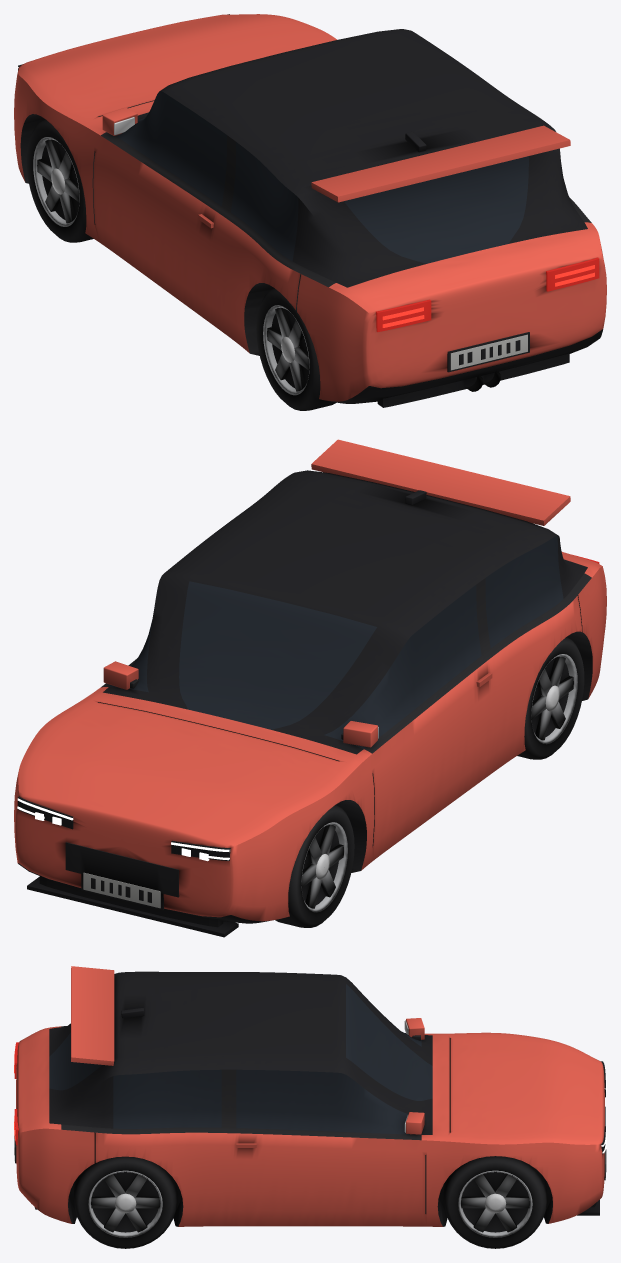
Rendered from kestrel.glb.
3 renders of one model, top to bottom at view 1: azimuth 30°, elevation 25°; view 2: azimuth 150°, elevation 25°; view 3: azimuth 270°, elevation 25°, orthographic. The views are drawn at different scales.
Visible parts, largest first — view 1: Body, Details, Wheel_RL, Wheel_FL, Rounded; view 2: Body, Details, Wheel_FL, Wheel_RL, Rounded; view 3: Body, Wheel_FR, Wheel_RR, Details, Rounded.
Boxes of the visible parts, x1,y1,x2,y2 form: Body: [14, 14, 606, 403]; Details: [17, 14, 599, 407]; Wheel_RL: [256, 288, 336, 410]; Wheel_FL: [26, 119, 93, 242]; Rounded: [102, 107, 426, 152]; Body: [14, 470, 606, 923]; Details: [17, 439, 599, 937]; Wheel_FL: [275, 805, 354, 927]; Wheel_RL: [517, 637, 584, 759]; Rounded: [103, 490, 426, 747]; Body: [16, 971, 604, 1226]; Wheel_FR: [443, 1156, 546, 1248]; Wheel_RR: [74, 1156, 177, 1248]; Details: [14, 966, 606, 1215]; Rounded: [121, 1008, 424, 1134].
Size of the model in its own units: 1.89 by 1.46 by 4.14.
